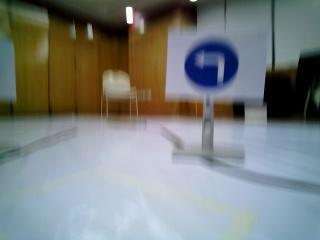left: (172, 38, 252, 97)
